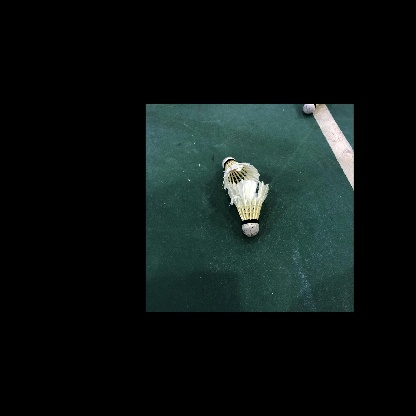ball_single: (227, 179, 269, 237), (222, 157, 260, 191), (303, 104, 320, 114)
